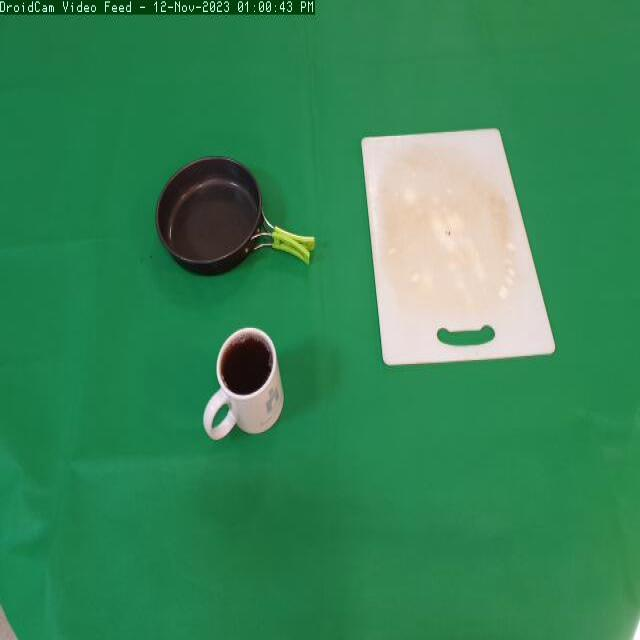cutting board: (355, 115, 562, 389)
fullcup: (197, 318, 288, 452)
pan: (154, 145, 322, 280)
